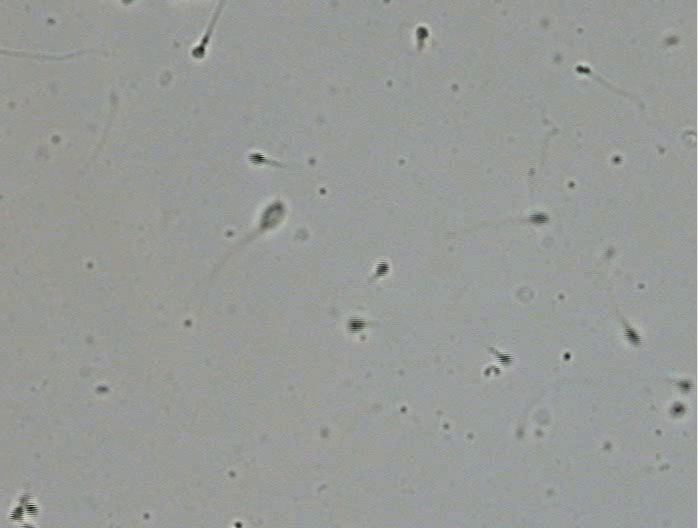S: (261, 201, 285, 230), (624, 327, 642, 348), (529, 212, 550, 225), (347, 318, 365, 333), (496, 352, 513, 367), (375, 260, 390, 277), (24, 502, 39, 517), (248, 153, 266, 165), (9, 506, 23, 520), (416, 26, 429, 41), (192, 45, 205, 59), (670, 403, 684, 416), (677, 379, 691, 392), (576, 65, 591, 75), (21, 523, 36, 528)
